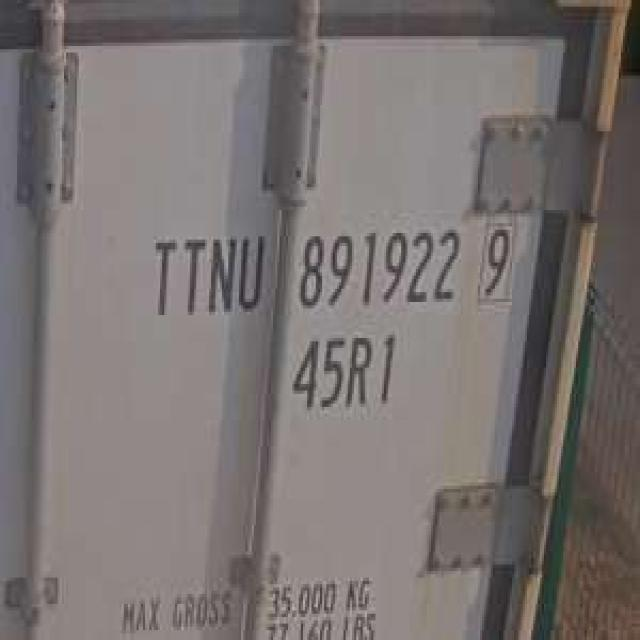dv: (473, 212, 524, 314)
owner: (143, 227, 269, 327)
serial: (291, 216, 464, 318)
size: (288, 328, 411, 418)
